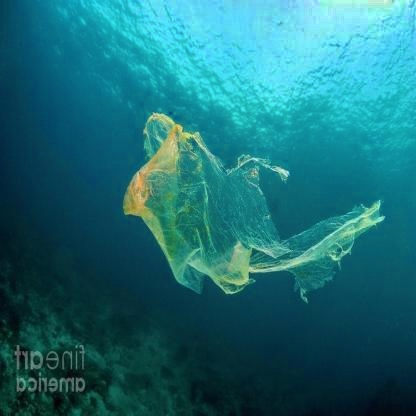pbag: (117, 106, 386, 313)
